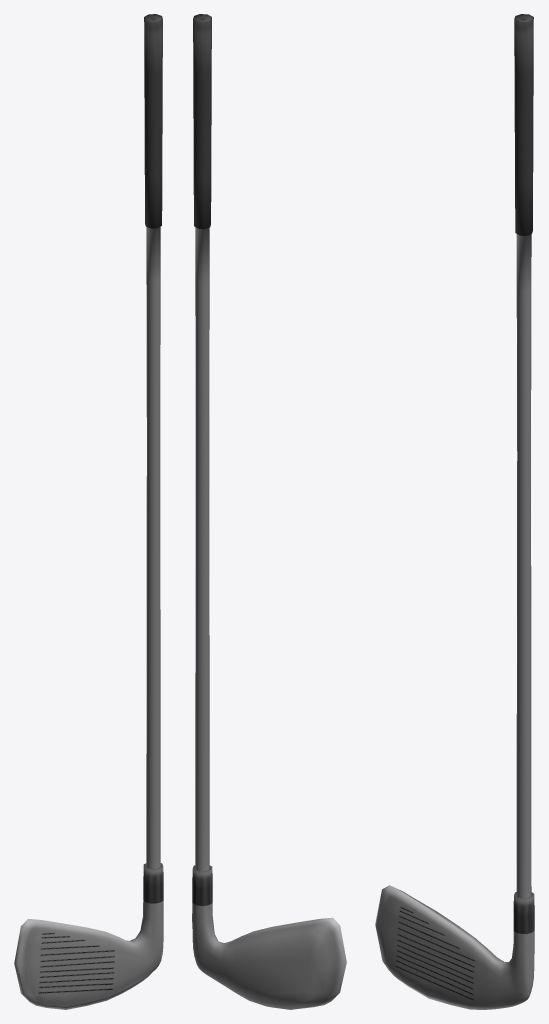
The model's file is GolfClub.fbx.
The picture shows the model from 3 angles, left to right: view 1: azimuth 30°, elevation 25°; view 2: azimuth 150°, elevation 25°; view 3: azimuth 330°, elevation 25°; orthographic projection. The views are drawn at different scales.
Parts seen in each view (by area): view 1: GolfClub; view 2: GolfClub; view 3: GolfClub.
Boxes of the visible parts, x1,y1,x2,y2 form: GolfClub: (14,14,163,1009); GolfClub: (192,14,346,1009); GolfClub: (375,14,534,1009).
Bounding box in the file's own units: 551 × 3382 × 99.13.
